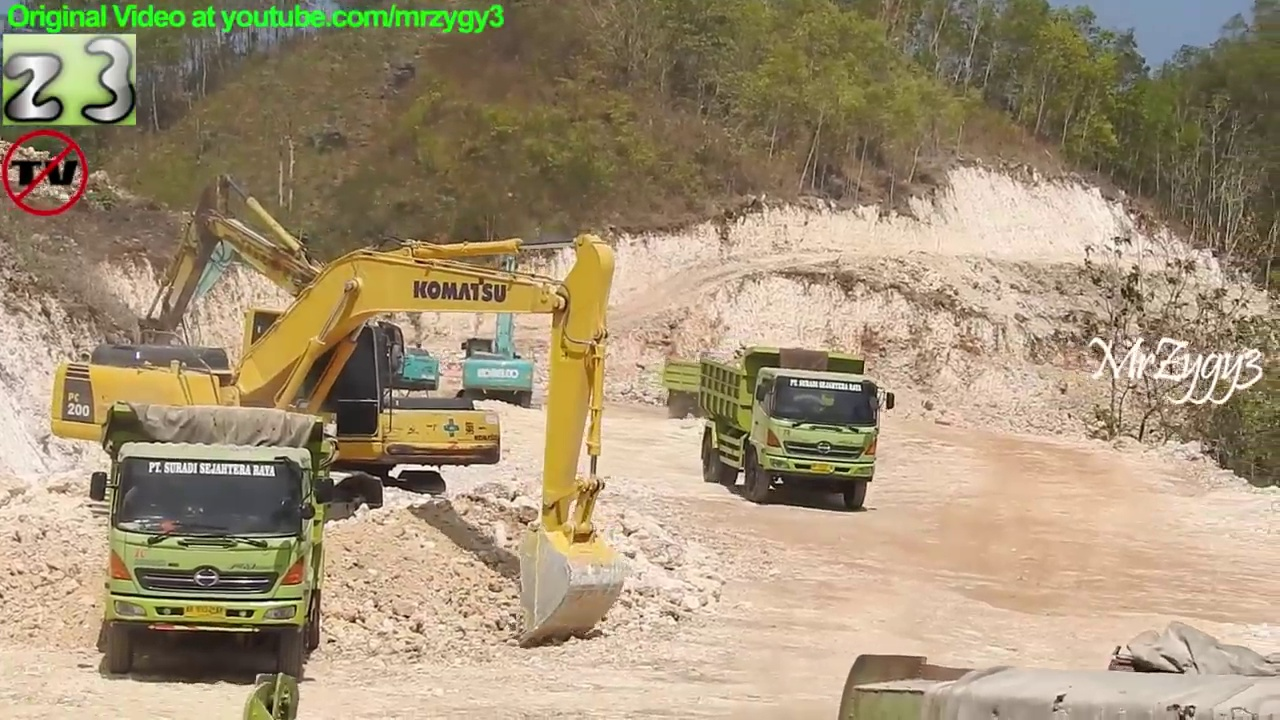excavator: (47, 233, 631, 650), (102, 172, 506, 512), (150, 217, 447, 437), (453, 237, 546, 420)
truck: (237, 617, 1280, 720), (85, 400, 336, 683), (696, 344, 899, 516), (657, 355, 760, 426)
